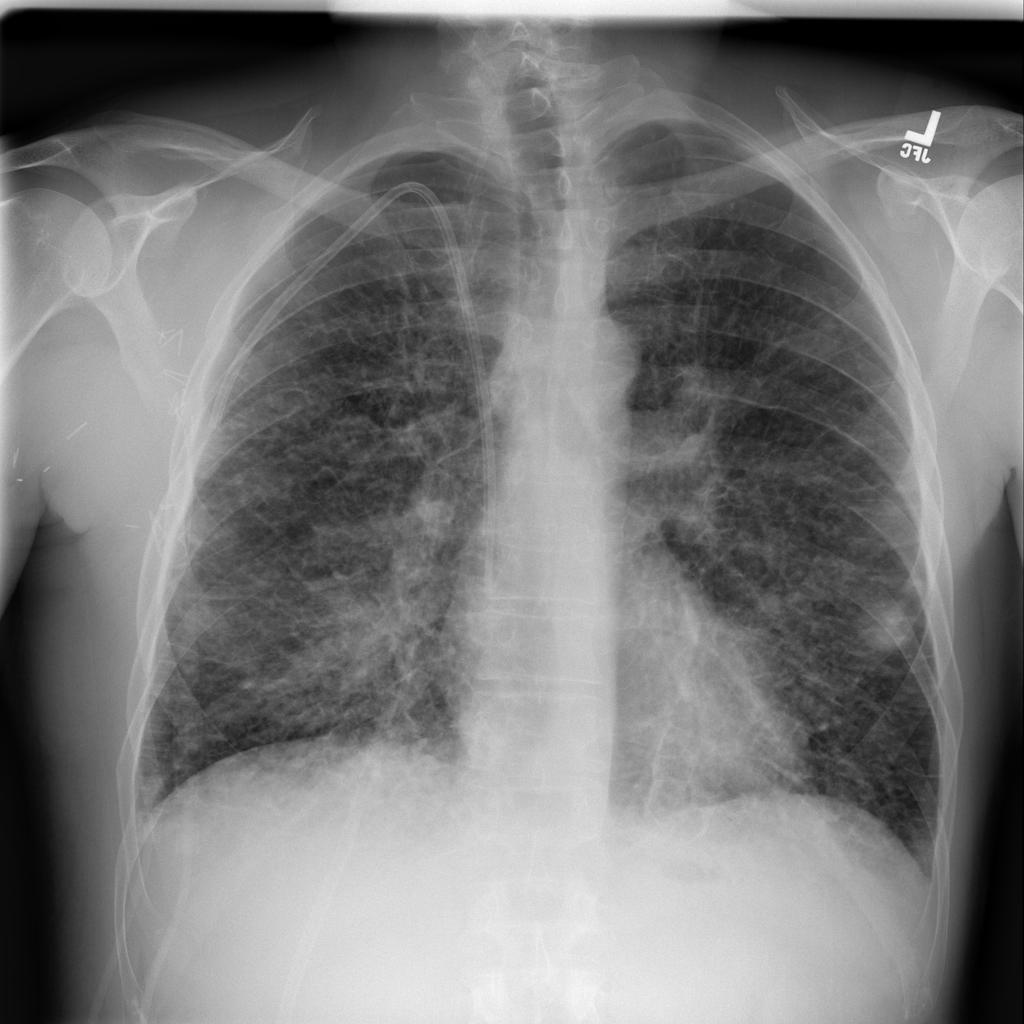nodule: (832, 574, 942, 672), (802, 300, 857, 345)
